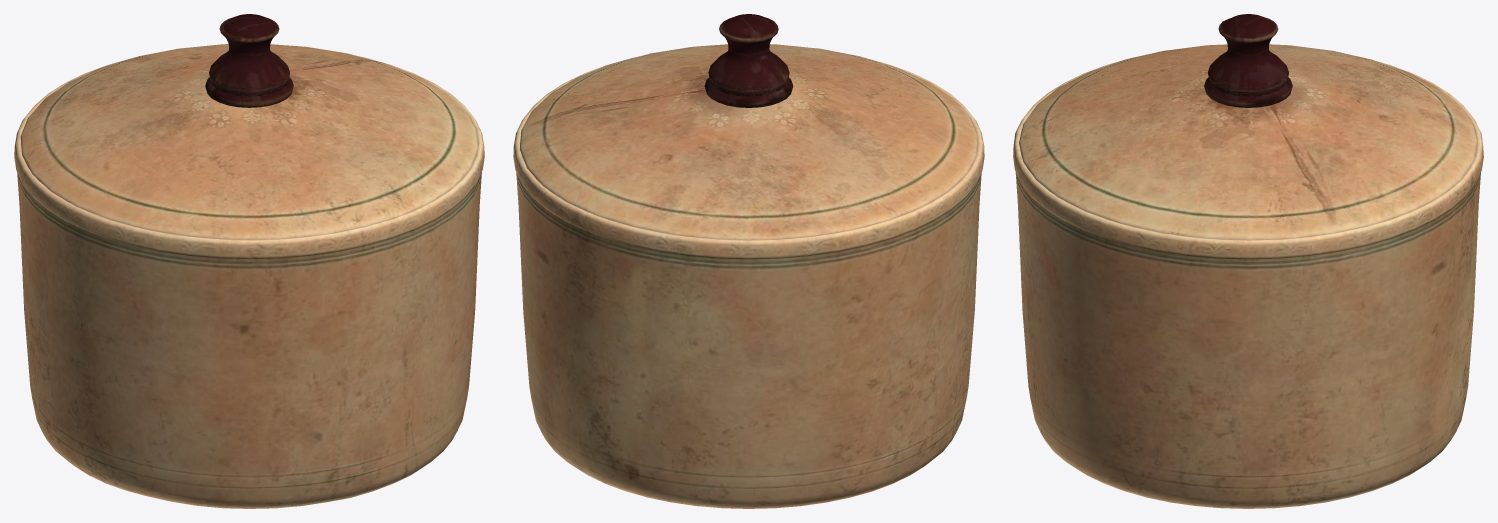
Rendered from brass_pot_01.glb.
3 renders of one model, left to right at view 1: azimuth 30°, elevation 25°; view 2: azimuth 150°, elevation 25°; view 3: azimuth 270°, elevation 25°, orthographic.
Parts seen in each view (by area): view 1: brass_pot_01; view 2: brass_pot_01; view 3: brass_pot_01.
Boxes of the visible parts, x1=… form: brass_pot_01: x1=14, y1=14, x2=484, y2=508; brass_pot_01: x1=513, y1=14, x2=984, y2=508; brass_pot_01: x1=1013, y1=14, x2=1483, y2=508.
Size of the model in its own units: 0.3019 by 0.2909 by 0.3017.
Materials: 1 (1 with a texture image).
